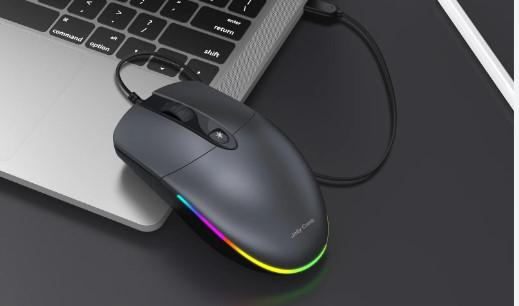computer mouse: (113, 67, 329, 276)
